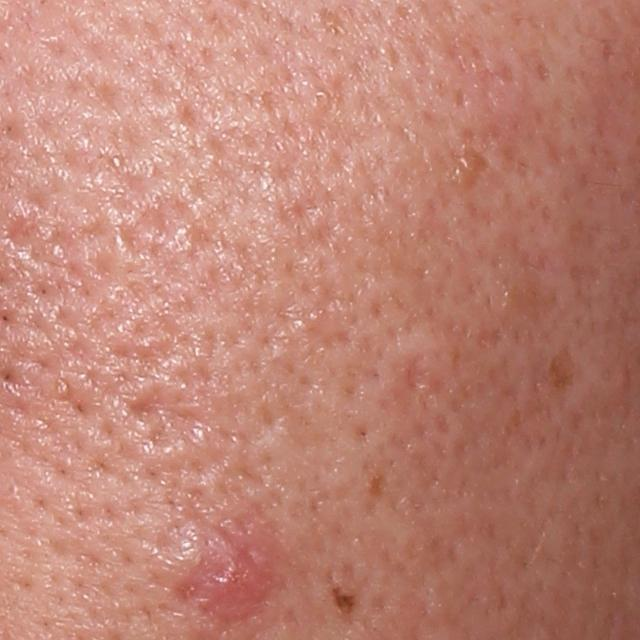atrophic_scar: (123, 381, 209, 459), (406, 348, 433, 394)
papule: (188, 535, 285, 618)
